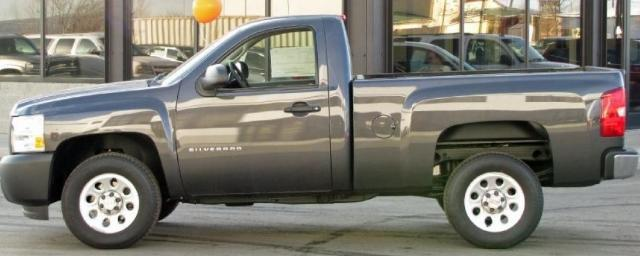pickup-truck: (1, 14, 638, 253)
